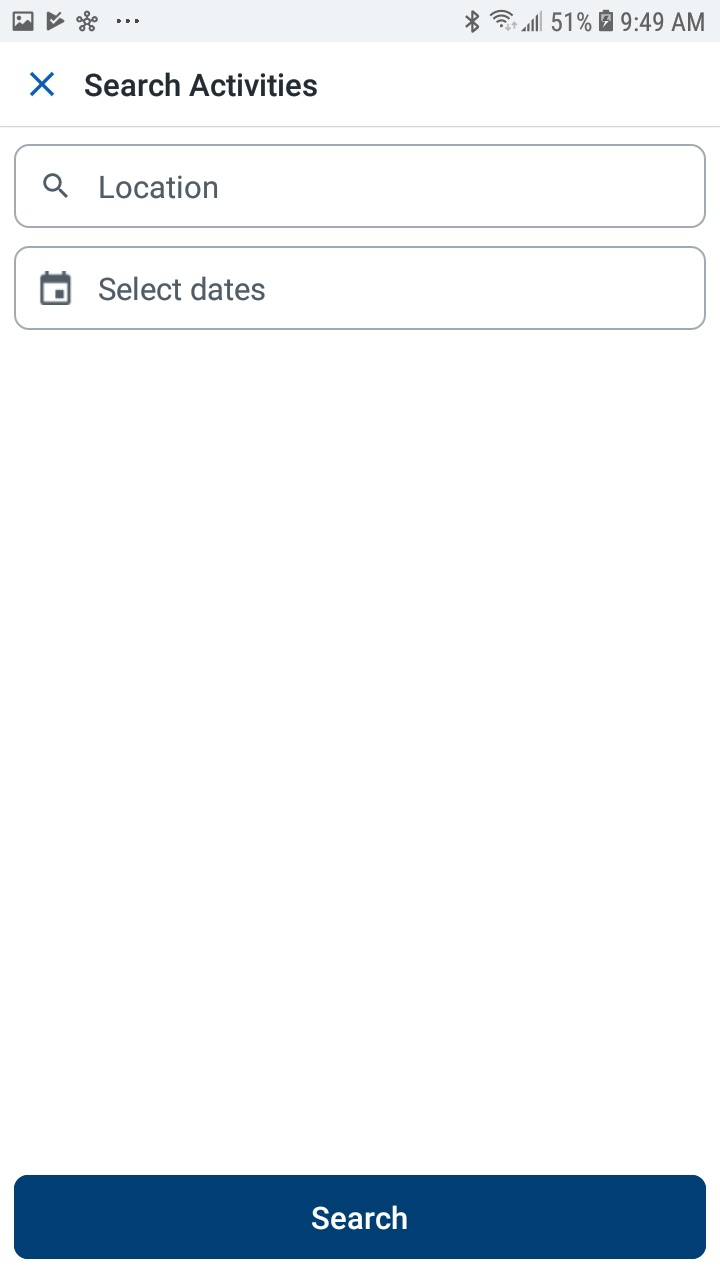EditText: (14, 247, 706, 331), (15, 145, 706, 229)
Icon: (41, 272, 73, 306), (31, 72, 56, 98), (44, 174, 69, 199)
Text: (85, 72, 318, 98), (99, 276, 266, 302), (100, 175, 218, 200)
TextButton: (15, 1175, 707, 1260)
UpperTaskBar: (1, 1, 720, 43)
